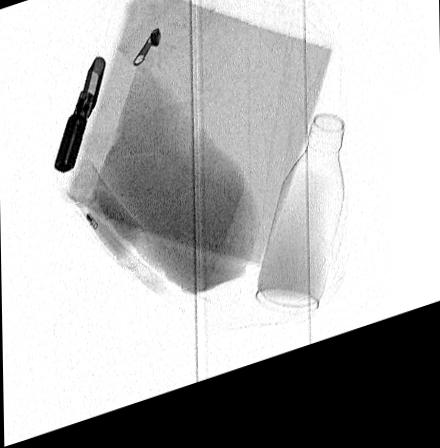Lighter: (54, 62, 106, 176)
